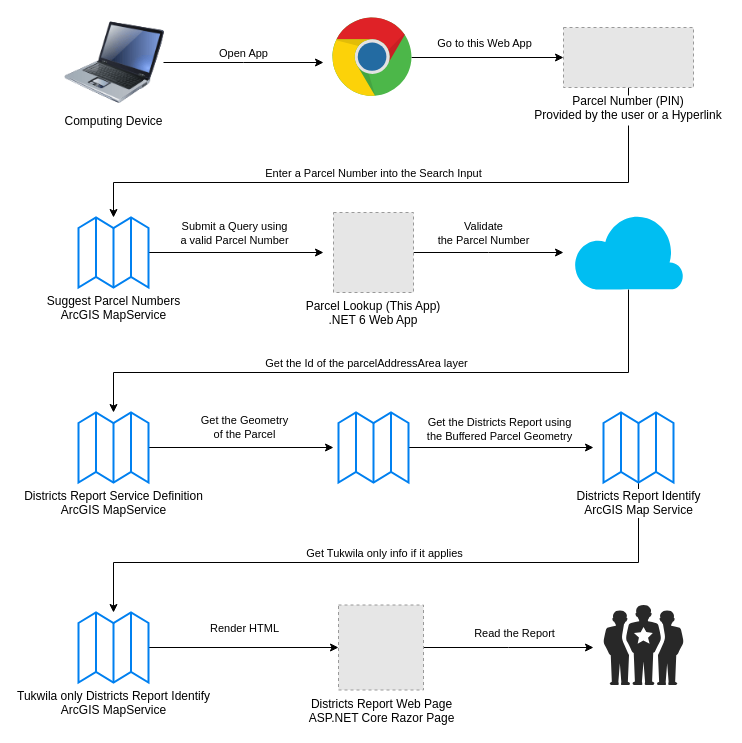
The diagram is 742 pixels wide and 743 high, and some of its shapes have lost their labels. Grey dashed boxes stand in for pictures. The centre of each missing label's shape, as x and y in pixels:
"Informed Public" belongs at (643,644).
"KC GIS Lookup API .NET Framework" belongs at (628,250).
"Parcel Address Layer Query ArcGIS Map Service" belongs at (373,447).
"Web Browser" belongs at (371,57).
